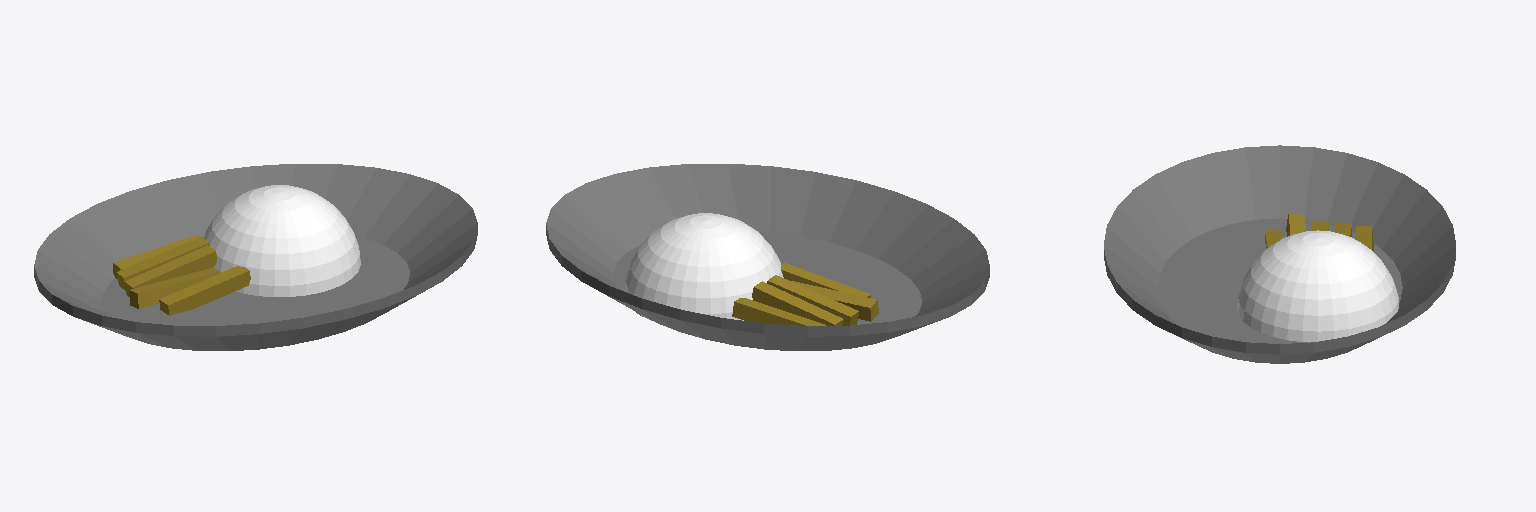
Rendered from rice2_meat2_veg0.obj.
The picture shows the model from 3 angles: view 1: azimuth 30°, elevation 25°; view 2: azimuth 150°, elevation 25°; view 3: azimuth 270°, elevation 25°; orthographic projection.
Visible parts, largest first — view 1: Cylinder, Sphere, Cube.004_Cube.005, Cube.001_Cube.002, Cube.002_Cube.003, Cube_Cube.001, Cube.003_Cube.004; view 2: Cylinder, Sphere, Cube_Cube.001, Cube.003_Cube.004, Cube.001_Cube.002, Cube.002_Cube.003, Cube.004_Cube.005; view 3: Cylinder, Sphere.
Part boxes in pixels (left/top/right/bottom): Cylinder: left=34, top=164, right=477, bottom=350; Sphere: left=204, top=185, right=360, bottom=296; Cube.004_Cube.005: left=159, top=266, right=250, bottom=315; Cube.001_Cube.002: left=124, top=245, right=216, bottom=296; Cube.002_Cube.003: left=129, top=268, right=220, bottom=308; Cube_Cube.001: left=116, top=237, right=209, bottom=290; Cube.003_Cube.004: left=113, top=234, right=199, bottom=278; Cylinder: left=546, top=164, right=989, bottom=350; Sphere: left=625, top=213, right=783, bottom=321; Cube_Cube.001: left=752, top=281, right=843, bottom=325; Cube.003_Cube.004: left=732, top=298, right=826, bottom=325; Cube.001_Cube.002: left=767, top=275, right=858, bottom=325; Cube.002_Cube.003: left=791, top=281, right=878, bottom=321; Cube.004_Cube.005: left=781, top=263, right=870, bottom=297; Cylinder: left=1104, top=145, right=1455, bottom=363; Sphere: left=1237, top=230, right=1398, bottom=342.
Bounding box in the file's own units: 5.75 × 1.05 × 4.31.